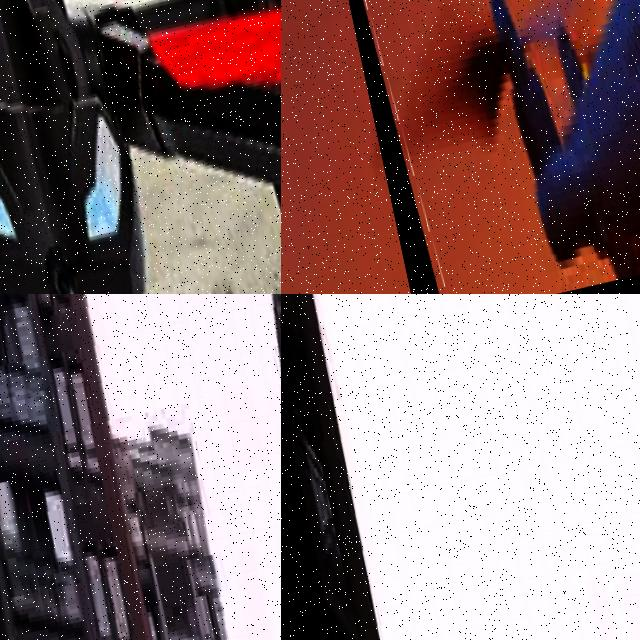drone: (284, 0, 640, 294), (0, 0, 281, 294)
